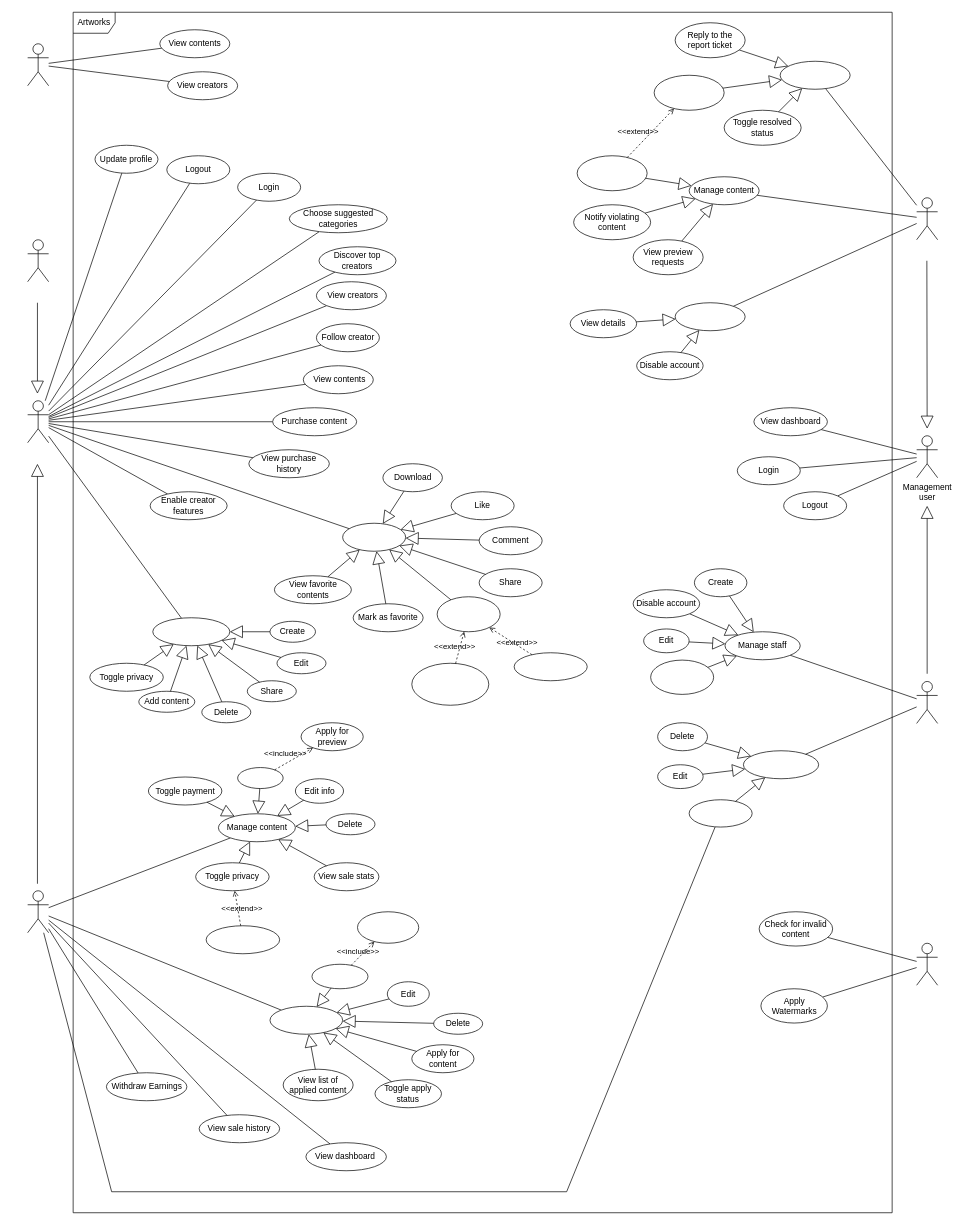
The diagram is 969 pixels wide and 1225 high, and some of its shapes have lost their labels. The centre of each missing label's shape, as x and y in pixels:
"Add due dates" belongs at point (388, 927).
"Admin" belongs at point (927, 702).
"Assign permissions" belongs at point (682, 676).
"Audience" belongs at point (38, 260).
"Create code" belongs at point (339, 976).
"Create report ticket" belongs at point (468, 614).
"Creator" belongs at point (38, 911).
"Guest" belongs at point (38, 64).
"Interact with content" belongs at point (374, 537).
"Manage collection" belongs at point (191, 631).
"Manage creator levels" belongs at point (781, 764).
"Manage Promotions" belongs at point (306, 1020).
"Manage report tickets" belongs at point (814, 75).
"Manage user" belongs at point (709, 316).
"Notify followers" belongs at point (242, 939).
"Registed user" belongs at point (38, 421).
"Remove content" belongs at point (611, 173).
"Reply to the ticket responses" belongs at point (450, 684).
"Staff" belongs at point (927, 218).
"System Handler" belongs at point (927, 964).
"Upload" belongs at point (260, 778).
"View benefits" belongs at point (720, 813).
"View reported content" belongs at point (688, 92).
"View ticket list" belongs at point (550, 666).
